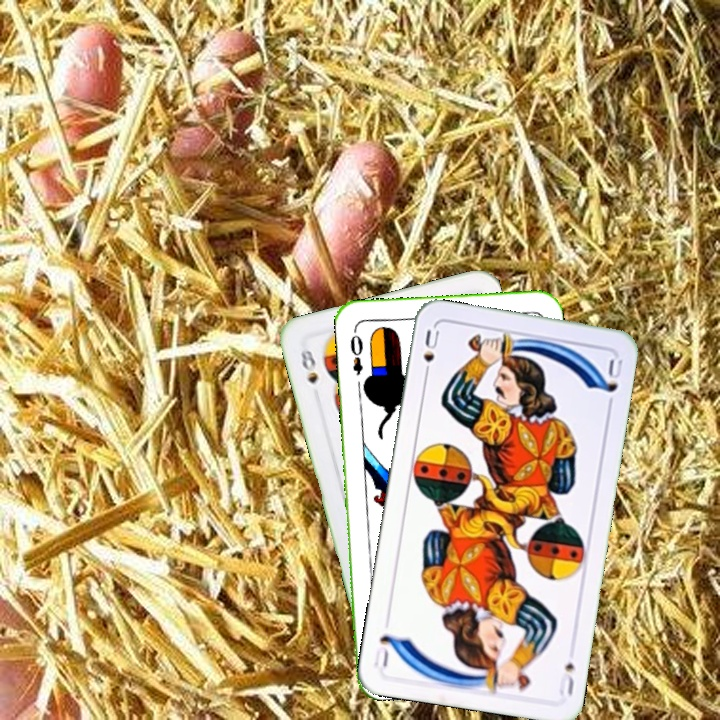EO: (346, 331, 365, 378)
S8: (296, 345, 321, 387)
SU: (419, 326, 442, 382), (555, 658, 578, 699)
